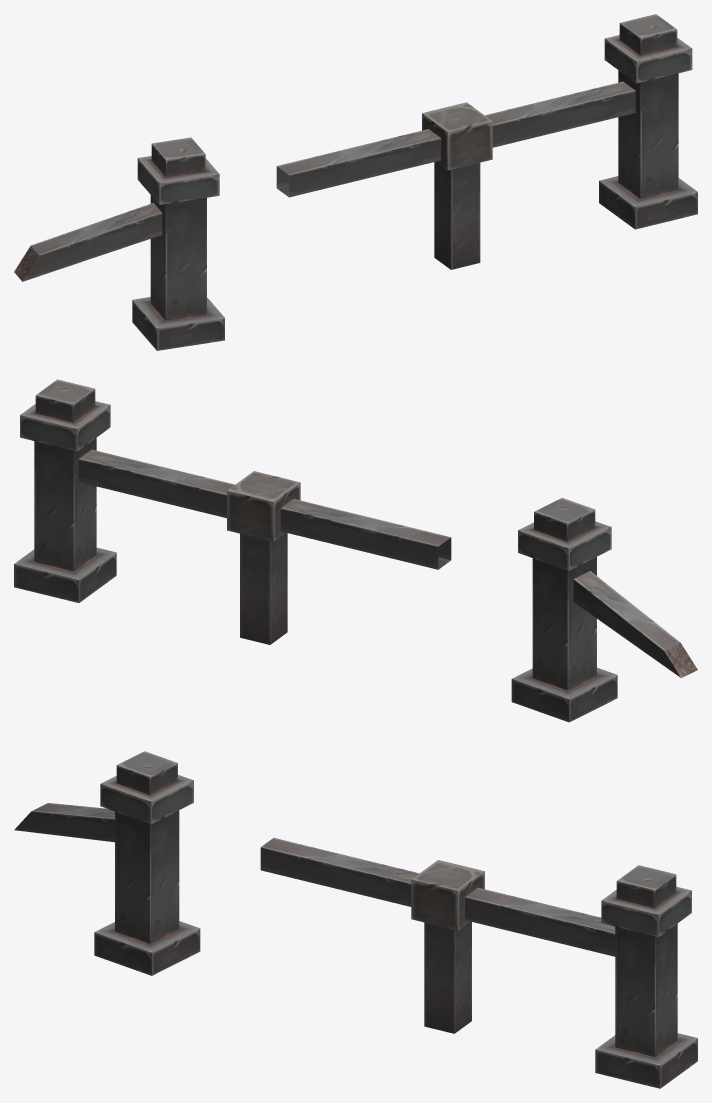
File: zw_langan.FBX
The picture shows the model from 3 angles, top to bottom: view 1: azimuth 30°, elevation 25°; view 2: azimuth 150°, elevation 25°; view 3: azimuth 330°, elevation 25°; orthographic projection. The views are drawn at different scales.
Parts seen in each view (by area): view 1: langan, langan002; view 2: langan, langan002; view 3: langan, langan002.
Part boxes in pixels (left/top/right/bottom): langan: left=276, top=14, right=697, bottom=269; langan002: left=14, top=137, right=224, bottom=350; langan: left=14, top=379, right=451, bottom=644; langan002: left=511, top=498, right=697, bottom=722; langan: left=260, top=838, right=697, bottom=1088; langan002: left=14, top=751, right=200, bottom=975.
Size of the model in its own units: 345 by 95.09 by 43.34.
